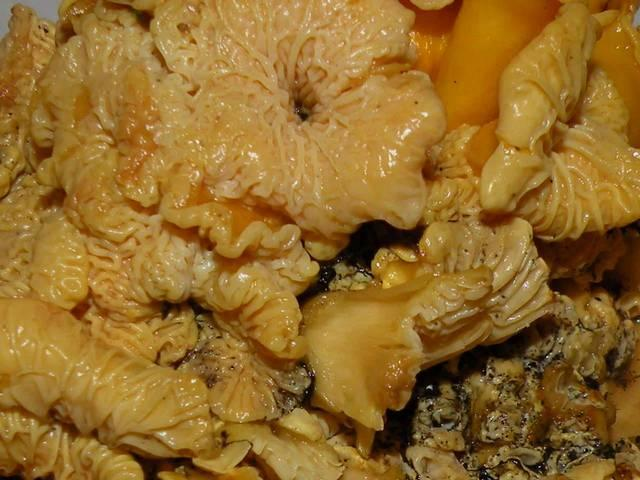edible_mushroom: (1, 0, 640, 480)
